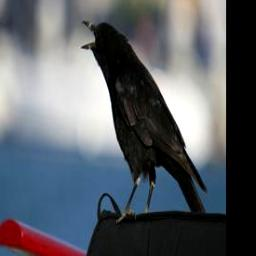Crow: (79, 15, 209, 229)
